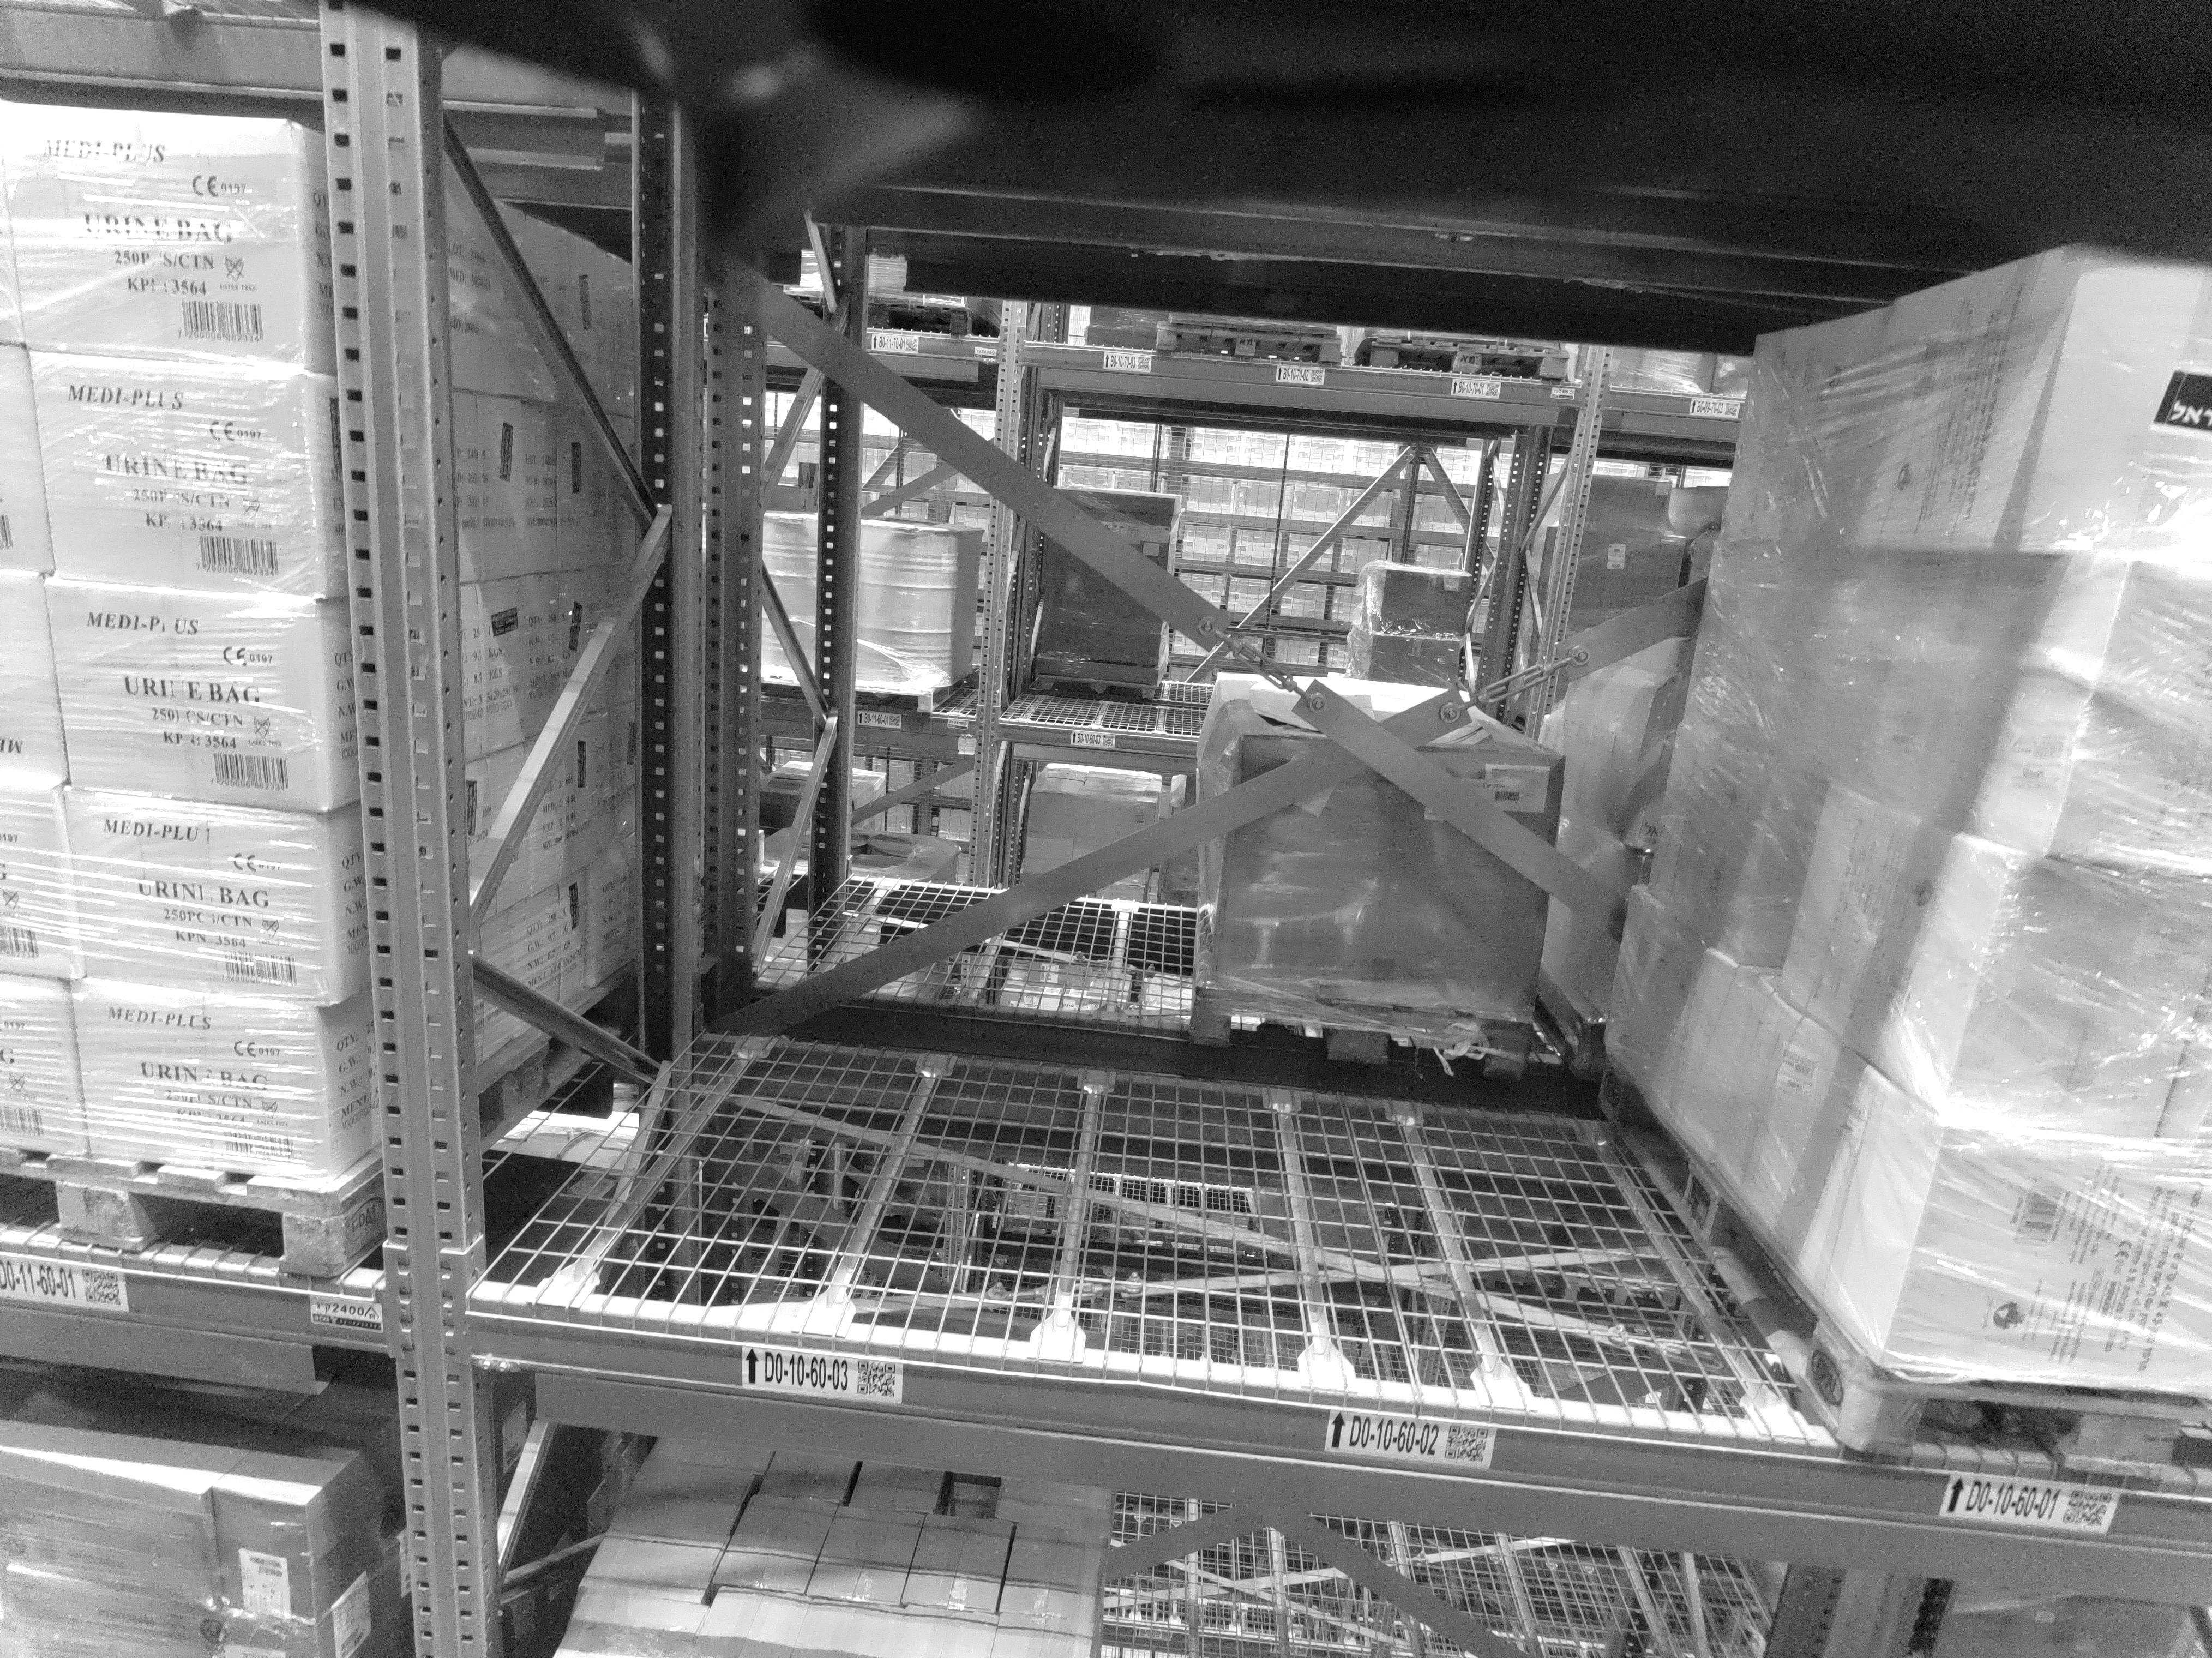empty-shelf: (1190, 261, 1623, 1379), (657, 261, 1017, 1315)
